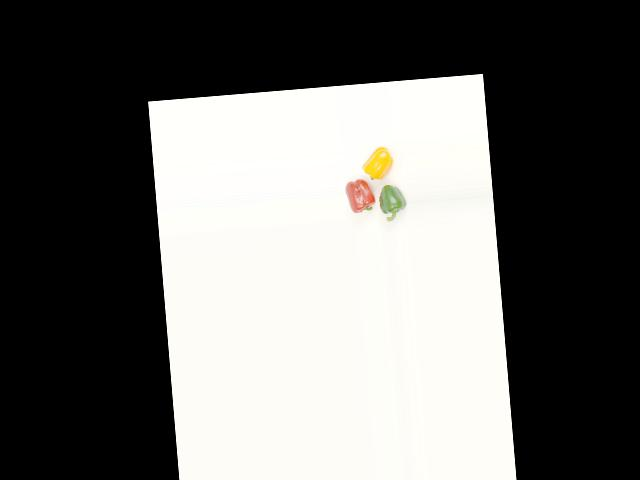bell_pepper: (376, 183, 408, 223)
